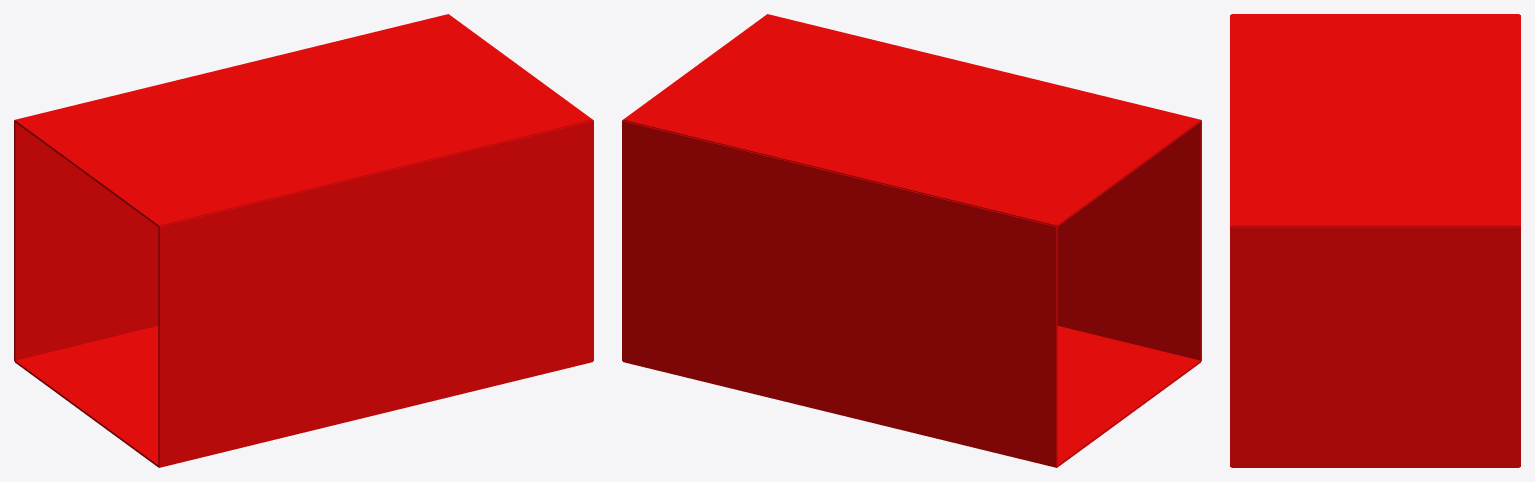
Rendered from cubbyhole_narrow_short.dae.
3 renders of one model, left to right at view 1: azimuth 30°, elevation 25°; view 2: azimuth 150°, elevation 25°; view 3: azimuth 270°, elevation 25°, orthographic.
Parts seen in each view (by area): view 1: cubbyhole_narrow_short (×4); view 2: cubbyhole_narrow_short (×4); view 3: cubbyhole_narrow_short (×4).
Boxes of the visible parts, left/top/right/bottom form: cubbyhole_narrow_short (×4): left=14, top=14, right=593, bottom=467; cubbyhole_narrow_short (×4): left=622, top=14, right=1201, bottom=467; cubbyhole_narrow_short (×4): left=1230, top=14, right=1520, bottom=467.
Bounding box in the file's own units: 0.4328 × 0.2508 × 0.2316.
